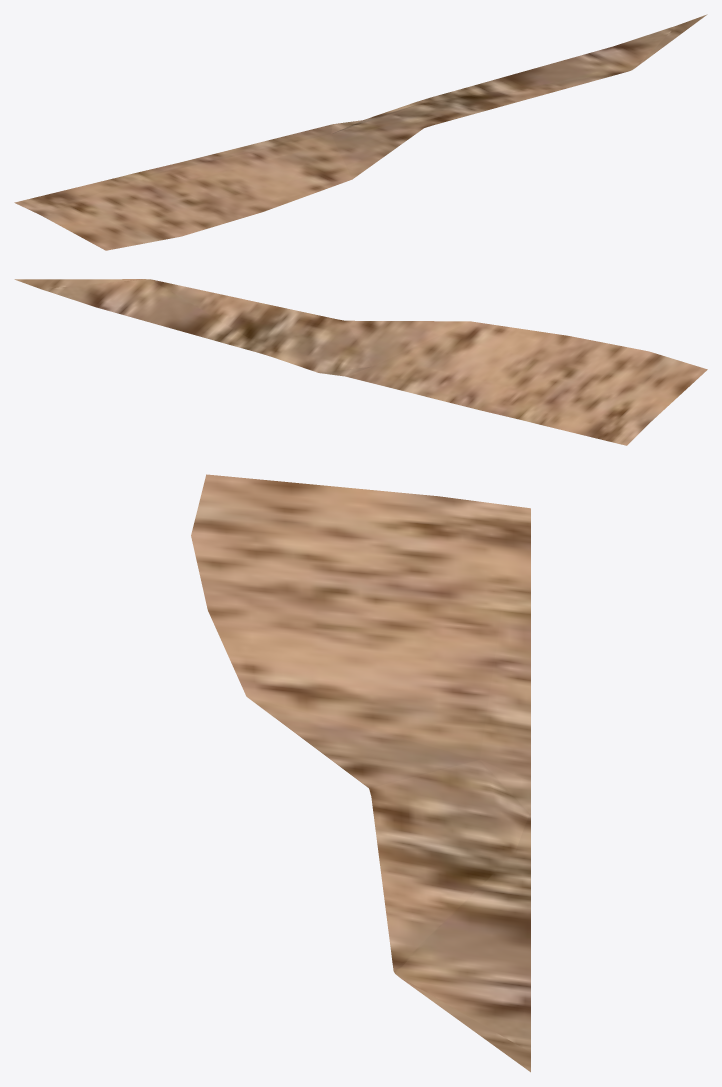
3 views of the same model, one above another, from view 1: azimuth 30°, elevation 25°; view 2: azimuth 150°, elevation 25°; view 3: azimuth 270°, elevation 25° (orthographic). The views are drawn at different scales.
Size of the model in its own units: 0.7665 by 0.023 by 0.1842.
1 material, 1 textured.
